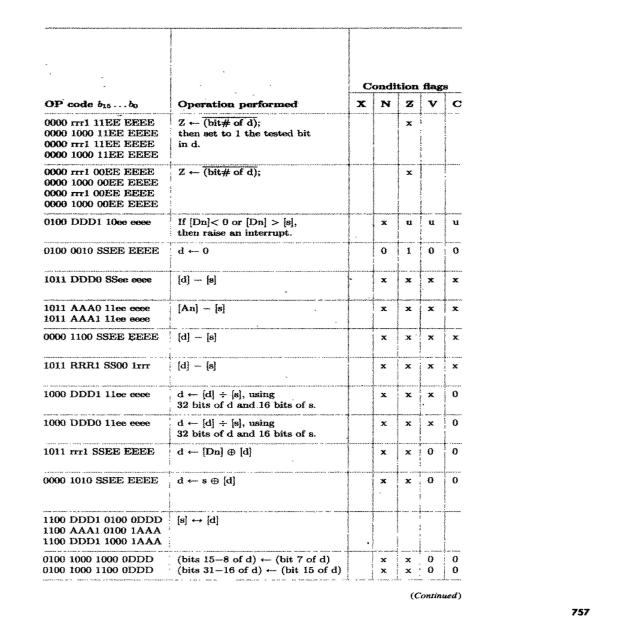diagram: (14, 9, 640, 612)
